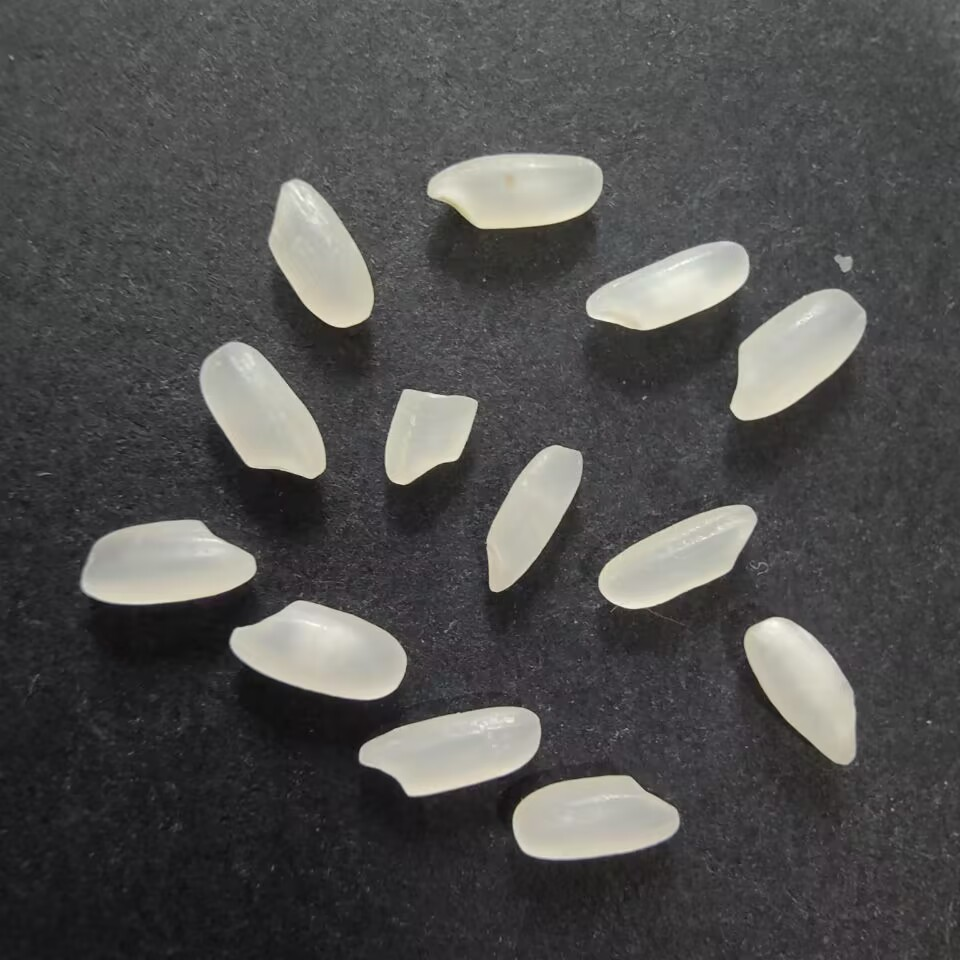broken: (376, 385, 486, 492)
rice: (720, 285, 871, 430), (349, 700, 548, 805), (224, 598, 413, 703), (742, 616, 866, 775), (196, 339, 328, 485), (595, 497, 761, 611), (261, 177, 378, 332), (475, 438, 588, 598), (416, 147, 612, 236), (584, 234, 753, 337), (505, 770, 686, 866), (70, 516, 262, 606)
